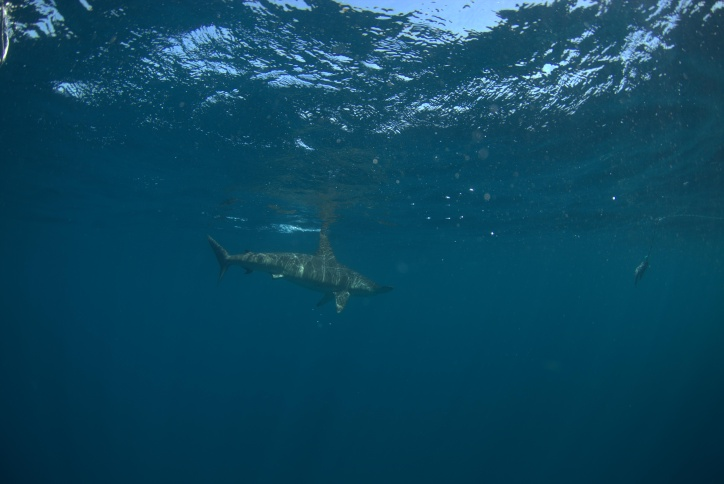Hammer: (203, 215, 418, 335)
